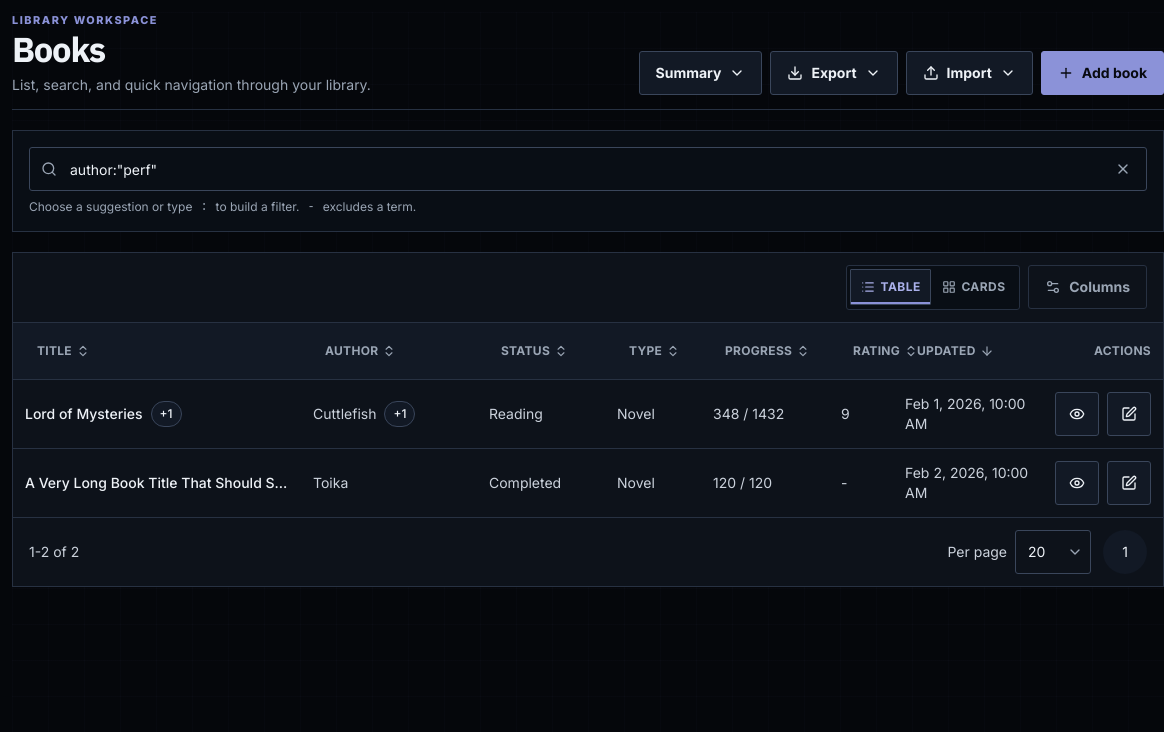
Test case: BooksPage › shows close values alongside actions when the current author is not an exact match
Expected: the text "Lord of Mysteries" is shown, top-left (25, 404), bottom-right (142, 424)
Click the dropdown named "search books": (588, 169) top-left (29, 147), bottom-right (1147, 191)
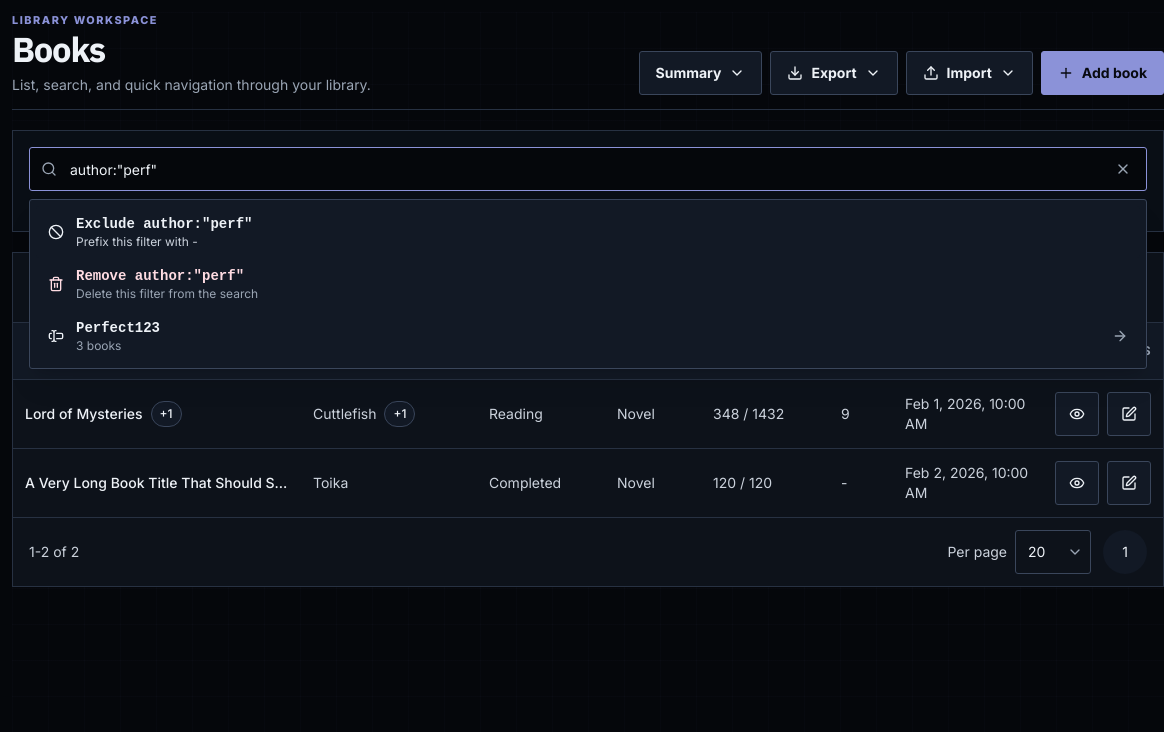
Result: the option "Exclude author:\"perf\" Prefix this filter with -" is shown at top-left (36, 206), bottom-right (1140, 258)
Result: the option "Remove author:\"perf\" Delete this filter from the search" is shown at top-left (36, 258), bottom-right (1140, 310)
Result: the option "Perfect123 3 books" is shown at top-left (36, 310), bottom-right (1140, 362)
